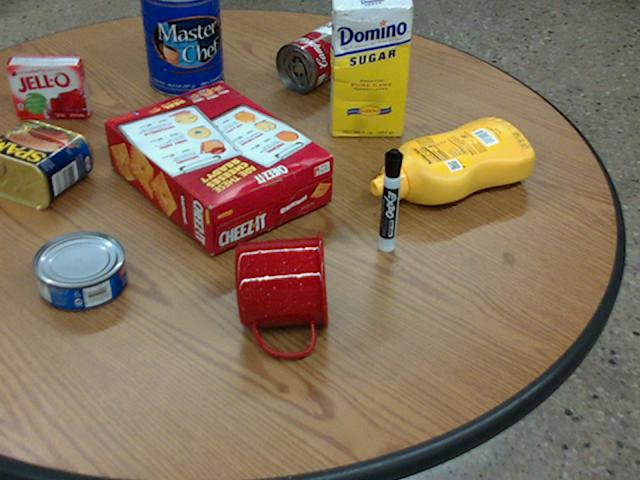cracker_box: (105, 81, 332, 254)
gelatin_box: (7, 56, 90, 117)
large_marker: (378, 148, 402, 251)
master_chef_can: (141, 0, 224, 95)
mug: (234, 231, 328, 356)
mustard_bottle: (370, 117, 532, 204)
potted_meat_can: (0, 120, 91, 207)
sugar_box: (331, 0, 412, 135)
tomato_soup_can: (275, 19, 358, 91)
tuna_fish_can: (32, 230, 125, 309)
